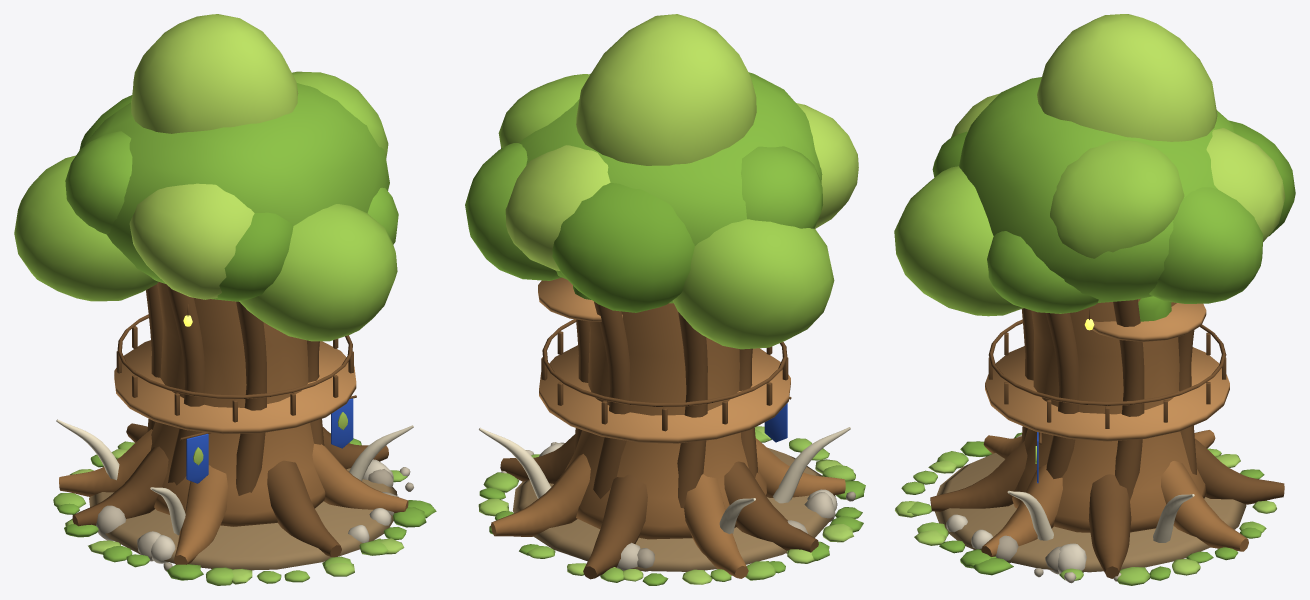
File: b_heartwood_3.glb
3 renders of one model, left to right at view 1: azimuth 30°, elevation 25°; view 2: azimuth 150°, elevation 25°; view 3: azimuth 270°, elevation 25°, orthographic. The views are drawn at different scales.
Parts seen in each view (by area): view 1: root_matte#86bc40, root_matte#9ccc4c, root_matte#b6dc5c, root_matte#a0703f, root_matte#74502c, root_matte#c08a52, mound, root_matte#76aa36, root_matte#7fb243, root_matte#ece0c2, root_matte#94c252, root_team (+3 smaller); view 2: root_matte#b6dc5c, root_matte#a0703f, root_matte#86bc40, root_matte#74502c, root_matte#9ccc4c, root_matte#76aa36, root_matte#c08a52, mound, root_matte#ece0c2, root_matte#94c252, root_matte#a8d060, root_matte#7fb243 (+2 smaller); view 3: root_matte#86bc40, root_matte#b6dc5c, root_matte#9ccc4c, root_matte#a0703f, root_matte#74502c, root_matte#c08a52, mound, root_matte#76aa36, root_matte#7fb243, root_matte#94c252, root_matte#a8d060, root_matte#ece0c2 (+2 smaller).
Part boxes in pixels (x1,y1,x2,y2): root_matte#86bc40: (65,83,398,301); root_matte#9ccc4c: (14,71,397,341); root_matte#b6dc5c: (129,14,347,465); root_matte#a0703f: (59,282,408,564); root_matte#74502c: (72,284,388,557); root_matte#c08a52: (114,340,356,434); mound: (89,468,397,570); root_matte#76aa36: (79,95,293,301); root_matte#7fb243: (57,438,436,580); root_matte#ece0c2: (56,419,413,535); root_matte#94c252: (53,441,407,585); root_team: (186,398,353,483); root_matte#b6dc5c: (505,14,858,270); root_matte#a0703f: (491,303,845,578); root_matte#86bc40: (465,72,822,303); root_matte#74502c: (500,301,818,579); root_matte#9ccc4c: (498,74,834,349); root_matte#76aa36: (552,183,694,312); root_matte#c08a52: (538,277,790,443); mound: (513,447,835,571); root_matte#ece0c2: (479,427,850,533); root_matte#94c252: (483,429,855,582); root_matte#a8d060: (478,426,853,584); root_matte#7fb243: (479,480,865,585); root_matte#86bc40: (959,77,1263,313); root_matte#b6dc5c: (951,14,1285,463); root_matte#9ccc4c: (894,140,1184,316); root_matte#a0703f: (981,298,1248,556); root_matte#74502c: (930,299,1284,578); root_matte#c08a52: (985,303,1229,441); mound: (934,453,1246,572); root_matte#76aa36: (932,120,1295,321); root_matte#7fb243: (939,432,1264,580); root_matte#94c252: (901,448,1266,585); root_matte#a8d060: (895,454,1276,575); root_matte#ece0c2: (1007,490,1194,542).
Size of the model in its own units: 4.41 by 6.04 by 4.48.
